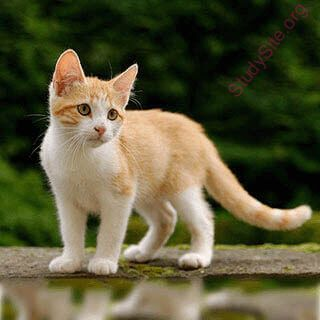cat: (36, 39, 320, 283)
